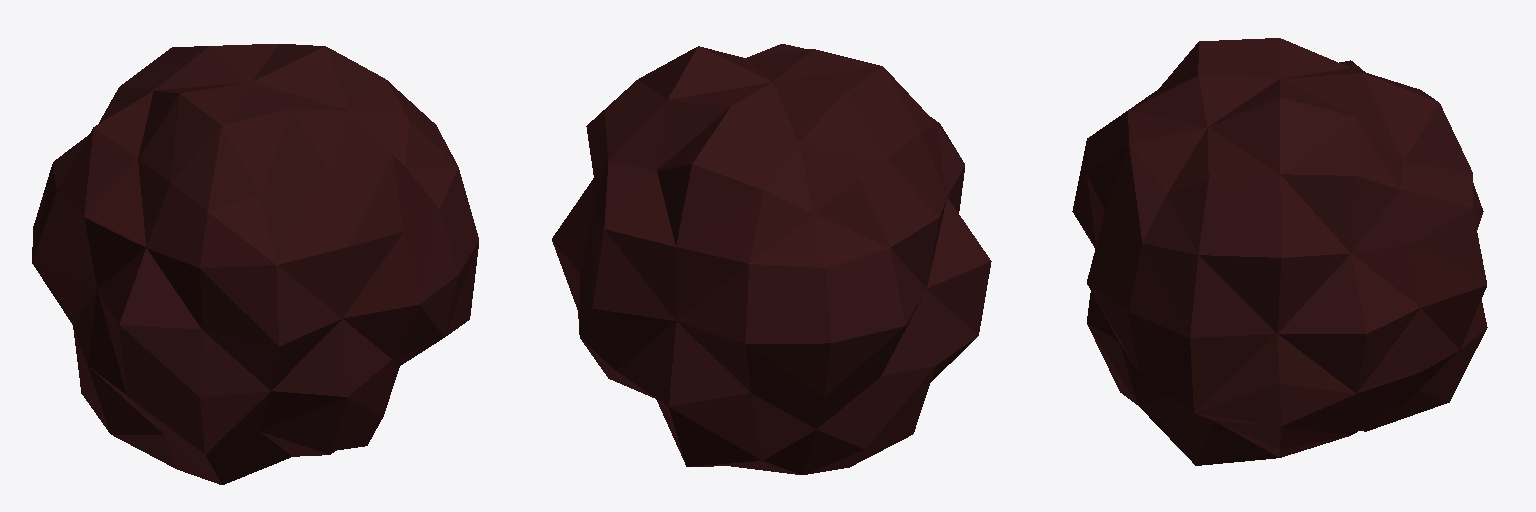
The model's file is attack_octorok.obj.
The picture shows the model from 3 angles: view 1: azimuth 30°, elevation 25°; view 2: azimuth 150°, elevation 25°; view 3: azimuth 270°, elevation 25°; orthographic projection.
Visible parts, largest first — view 1: rock_low__MI_rock; view 2: rock_low__MI_rock; view 3: rock_low__MI_rock.
Part boxes in pixels (x1,y1,x2,y2): rock_low__MI_rock: (32,44,478,484); rock_low__MI_rock: (552,44,991,474); rock_low__MI_rock: (1072,38,1487,465).
Bounding box in the file's own units: 0.0126 × 0.0128 × 0.0125.